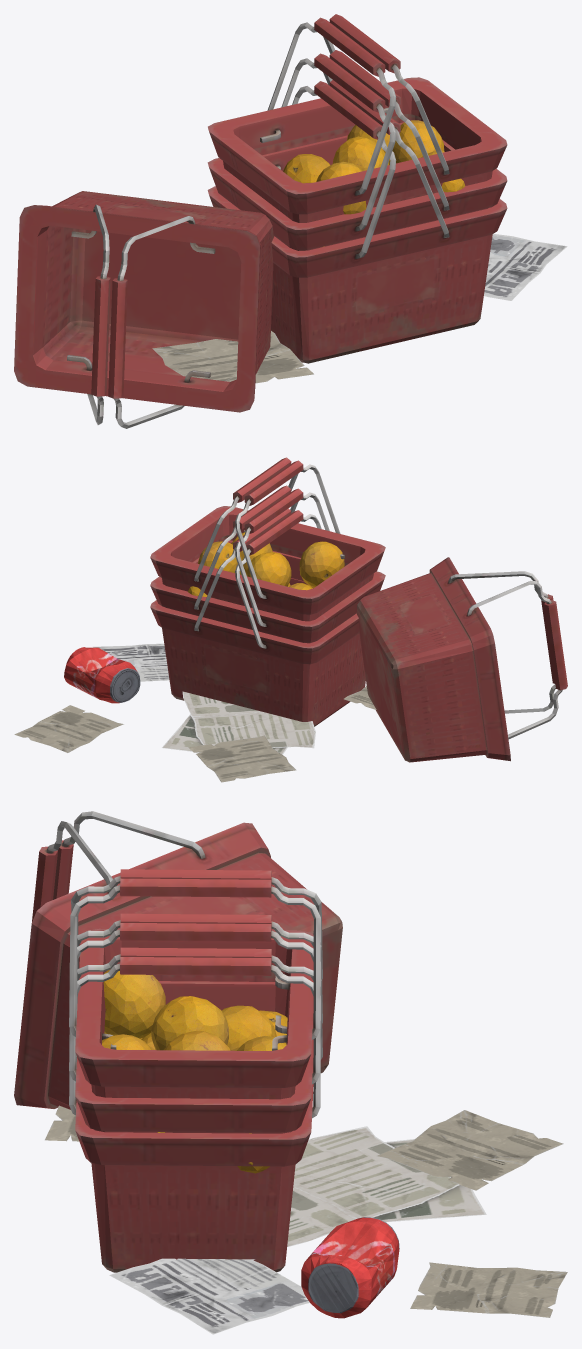
The model's file is P_NEWMaket01_after19.obj.
3 views of the same model, one above another, from view 1: azimuth 30°, elevation 25°; view 2: azimuth 150°, elevation 25°; view 3: azimuth 270°, elevation 25° (orthographic). The views are drawn at different scales.
Bounding box in the file's own units: 1.6 × 0.8013 × 1.14.
Materials: 11 (11 with a texture image).
